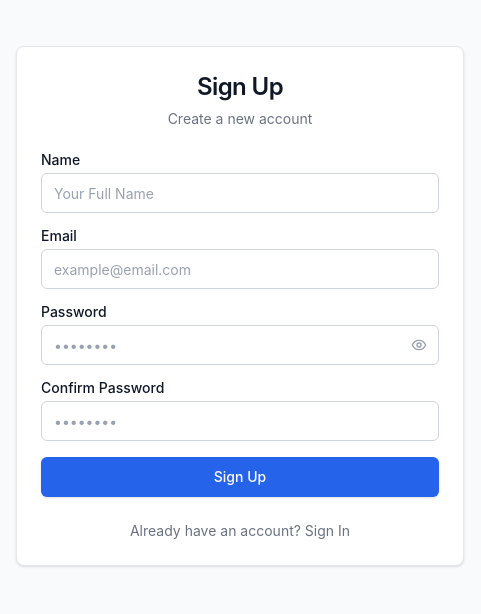
Test: RegisterPage › should show error message on registration failure
This screenshot has width=481, height=614.
Type "Test User" into the field labelled "Name".
click(240, 193); type("Test User")  # box [41,173,439,213]
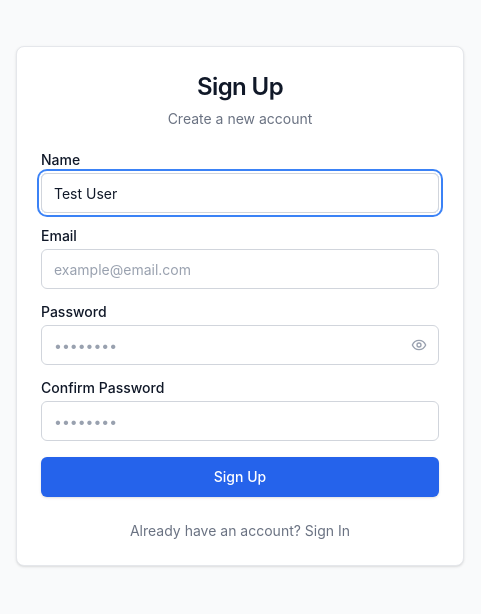
Type "dupe@test.com" into the field labelled "Email".
click(240, 269); type("dupe@test.com")  # box [41,249,439,289]
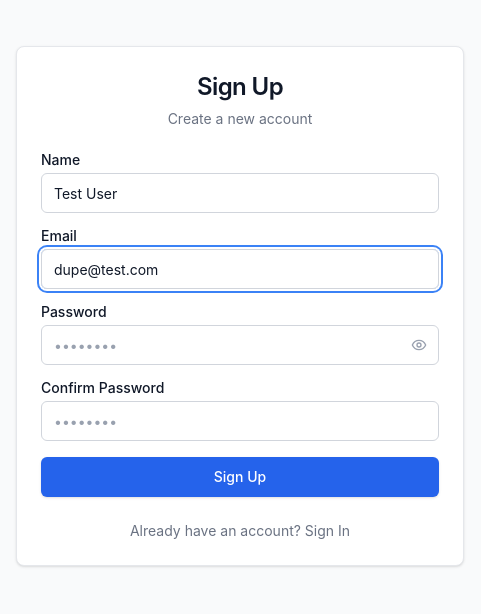
Type "Password123" into the password field labelled "Password".
click(240, 345); type("Password123")  # box [41,325,439,365]
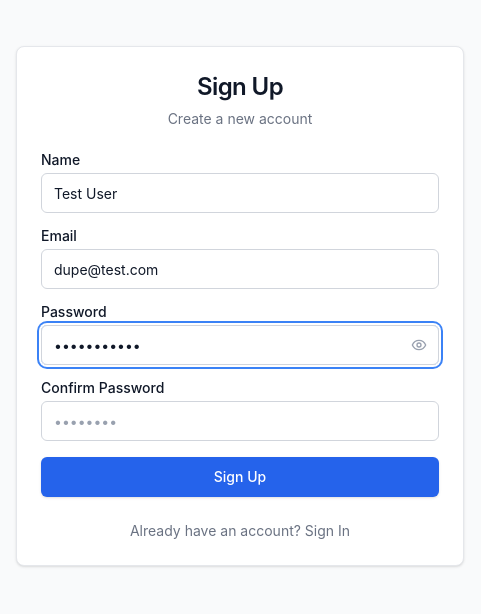
Type "Password123" into the password field labelled "Confirm Password".
click(240, 421); type("Password123")  # box [41,401,439,441]
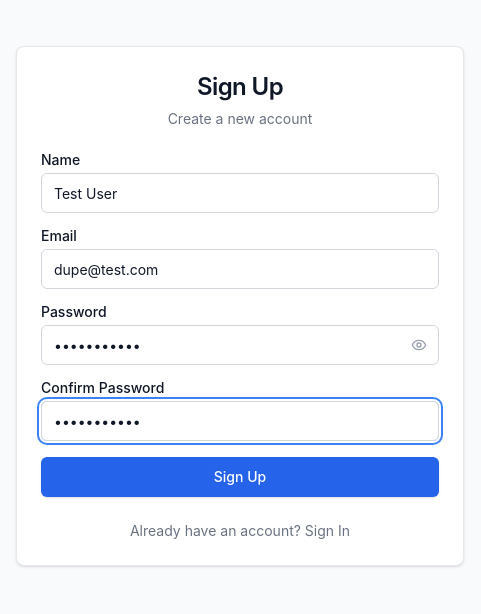
Click the button "Sign Up".
click(240, 477)  # box [41,457,439,497]
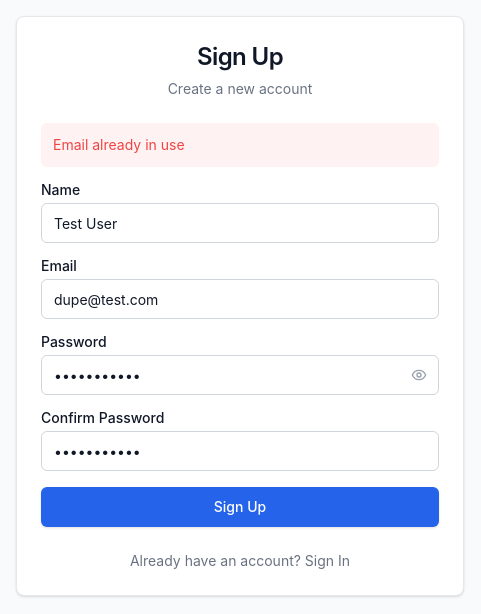
Now the text "Email already in use" is shown, box [41,123,439,167]
